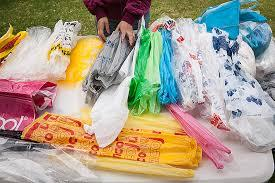Plastic bag: (3, 7, 275, 183)
